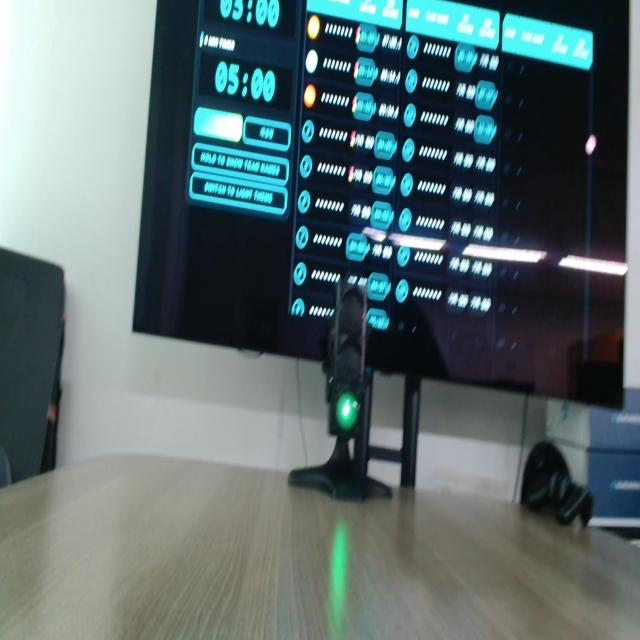green_light: (336, 392, 359, 430)
